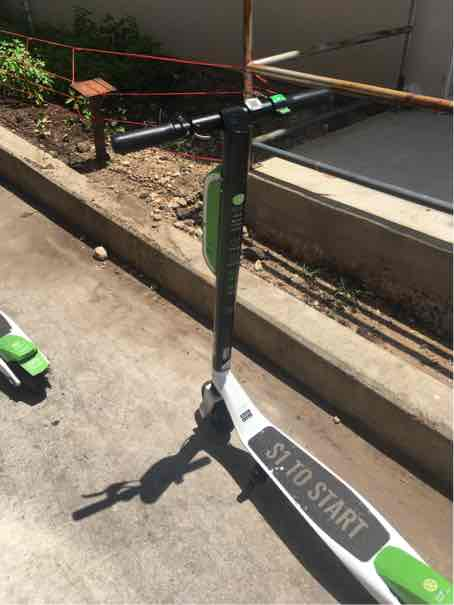scooter: (106, 93, 439, 605)
